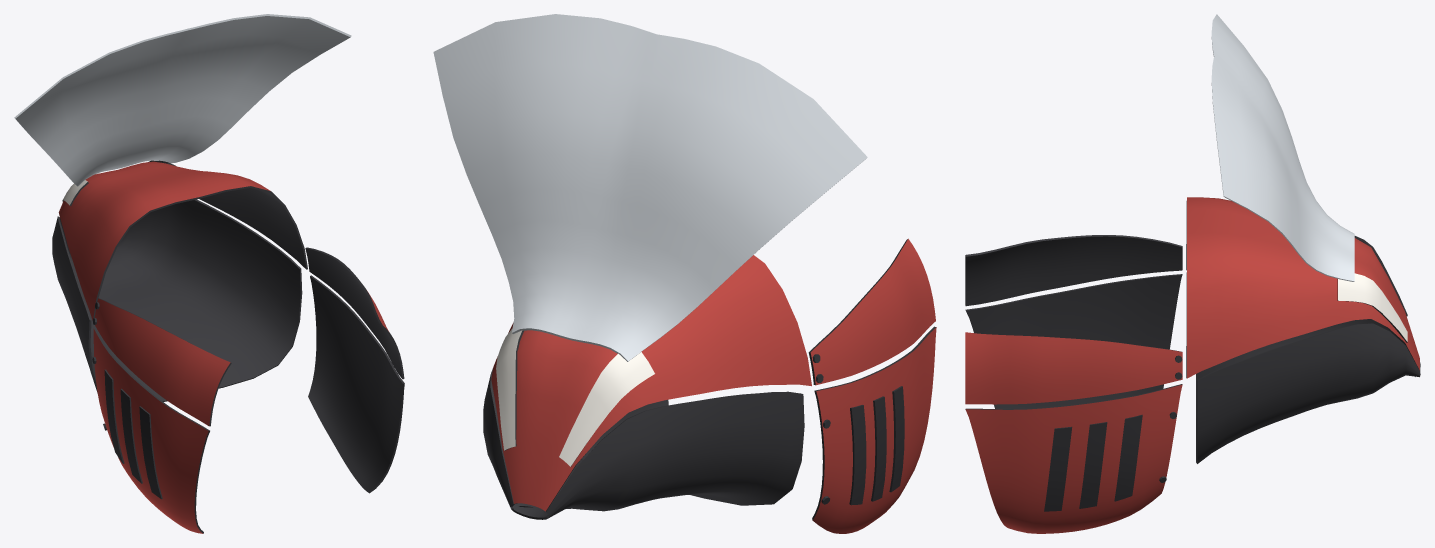
Rendered from touring.glb.
3 views of the same model, side by side, from view 1: azimuth 30°, elevation 25°; view 2: azimuth 150°, elevation 25°; view 3: azimuth 270°, elevation 25° (orthographic). The views are drawn at different scales.
Parts seen in each view (by area): view 1: lod0; view 2: lod0; view 3: lod0.
Part boxes in pixels (x1,y1,x2,y2): lod0: [14, 14, 404, 533]; lod0: [433, 14, 936, 533]; lod0: [965, 14, 1420, 533].
Size of what is drawn, in the model's own units: 0.7702 by 0.9075 by 0.8632.
